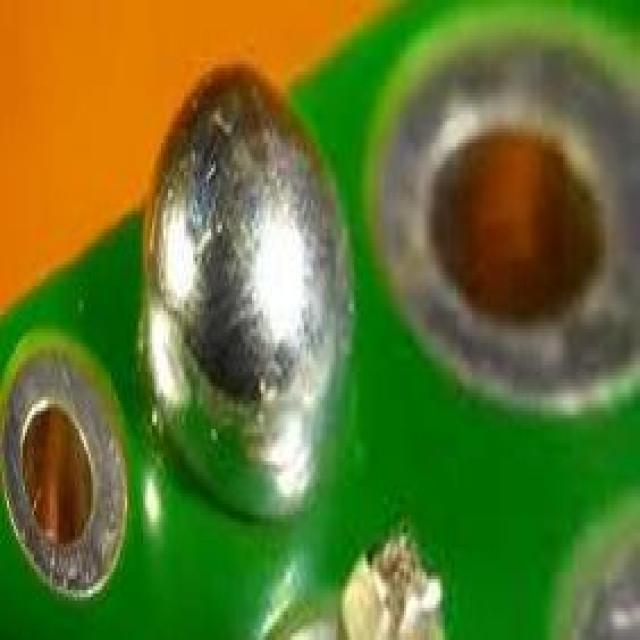redundant: (145, 71, 350, 517)
